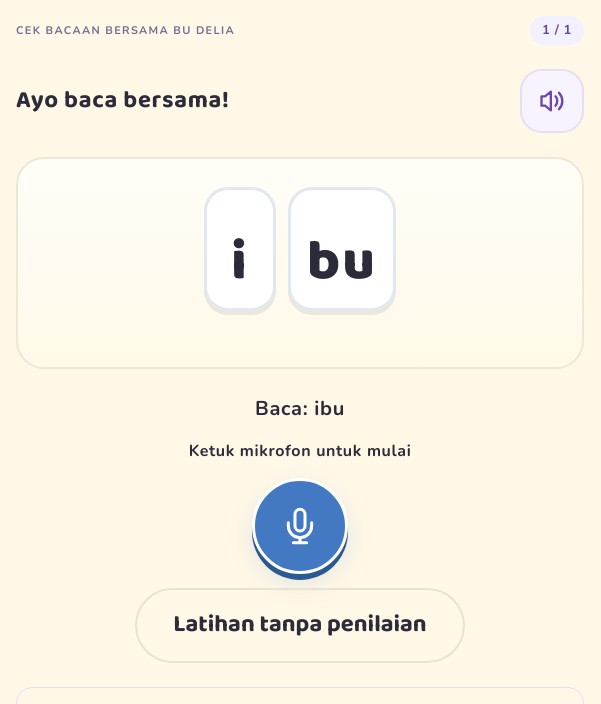
Test: Listening and reading are different stages › does not open a competing getUserMedia stream during recognition
Click the button named "mulai bicara". click: (300, 526)
box: top-left (252, 478), bottom-right (348, 574)
Wait 450 ms
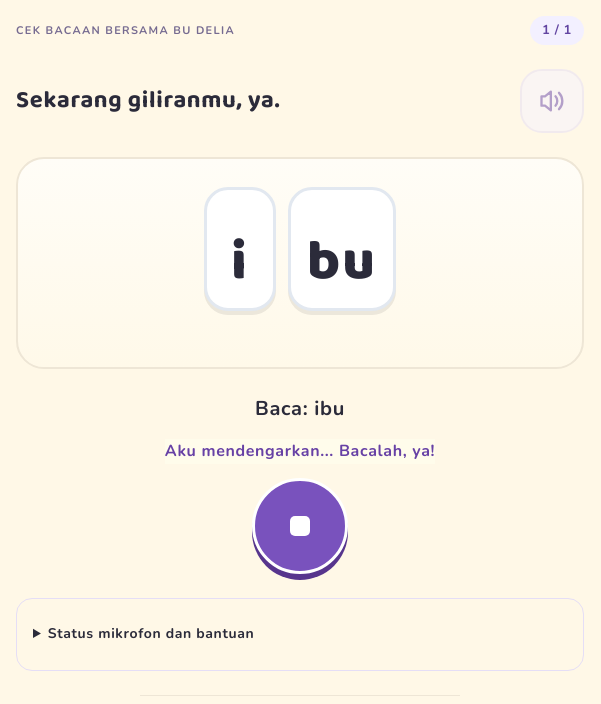
Expected: the button named "hentikan mikrofon" is shown, top-left (252, 478), bottom-right (348, 574)
